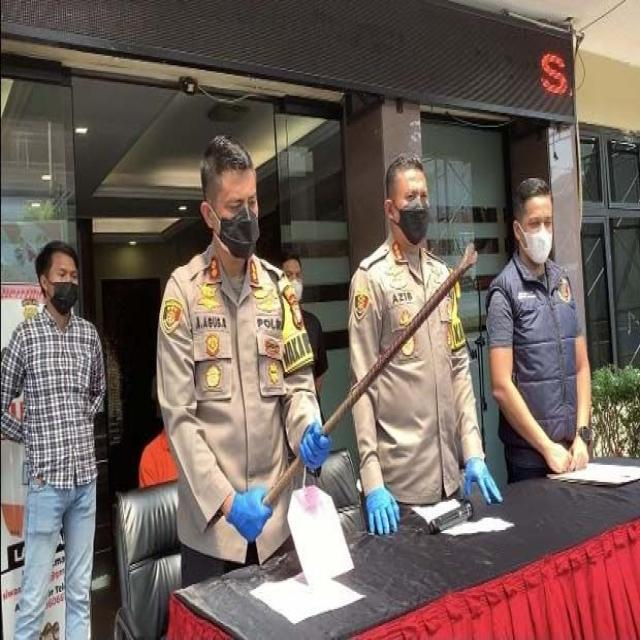Linggis: (254, 244, 478, 516)
